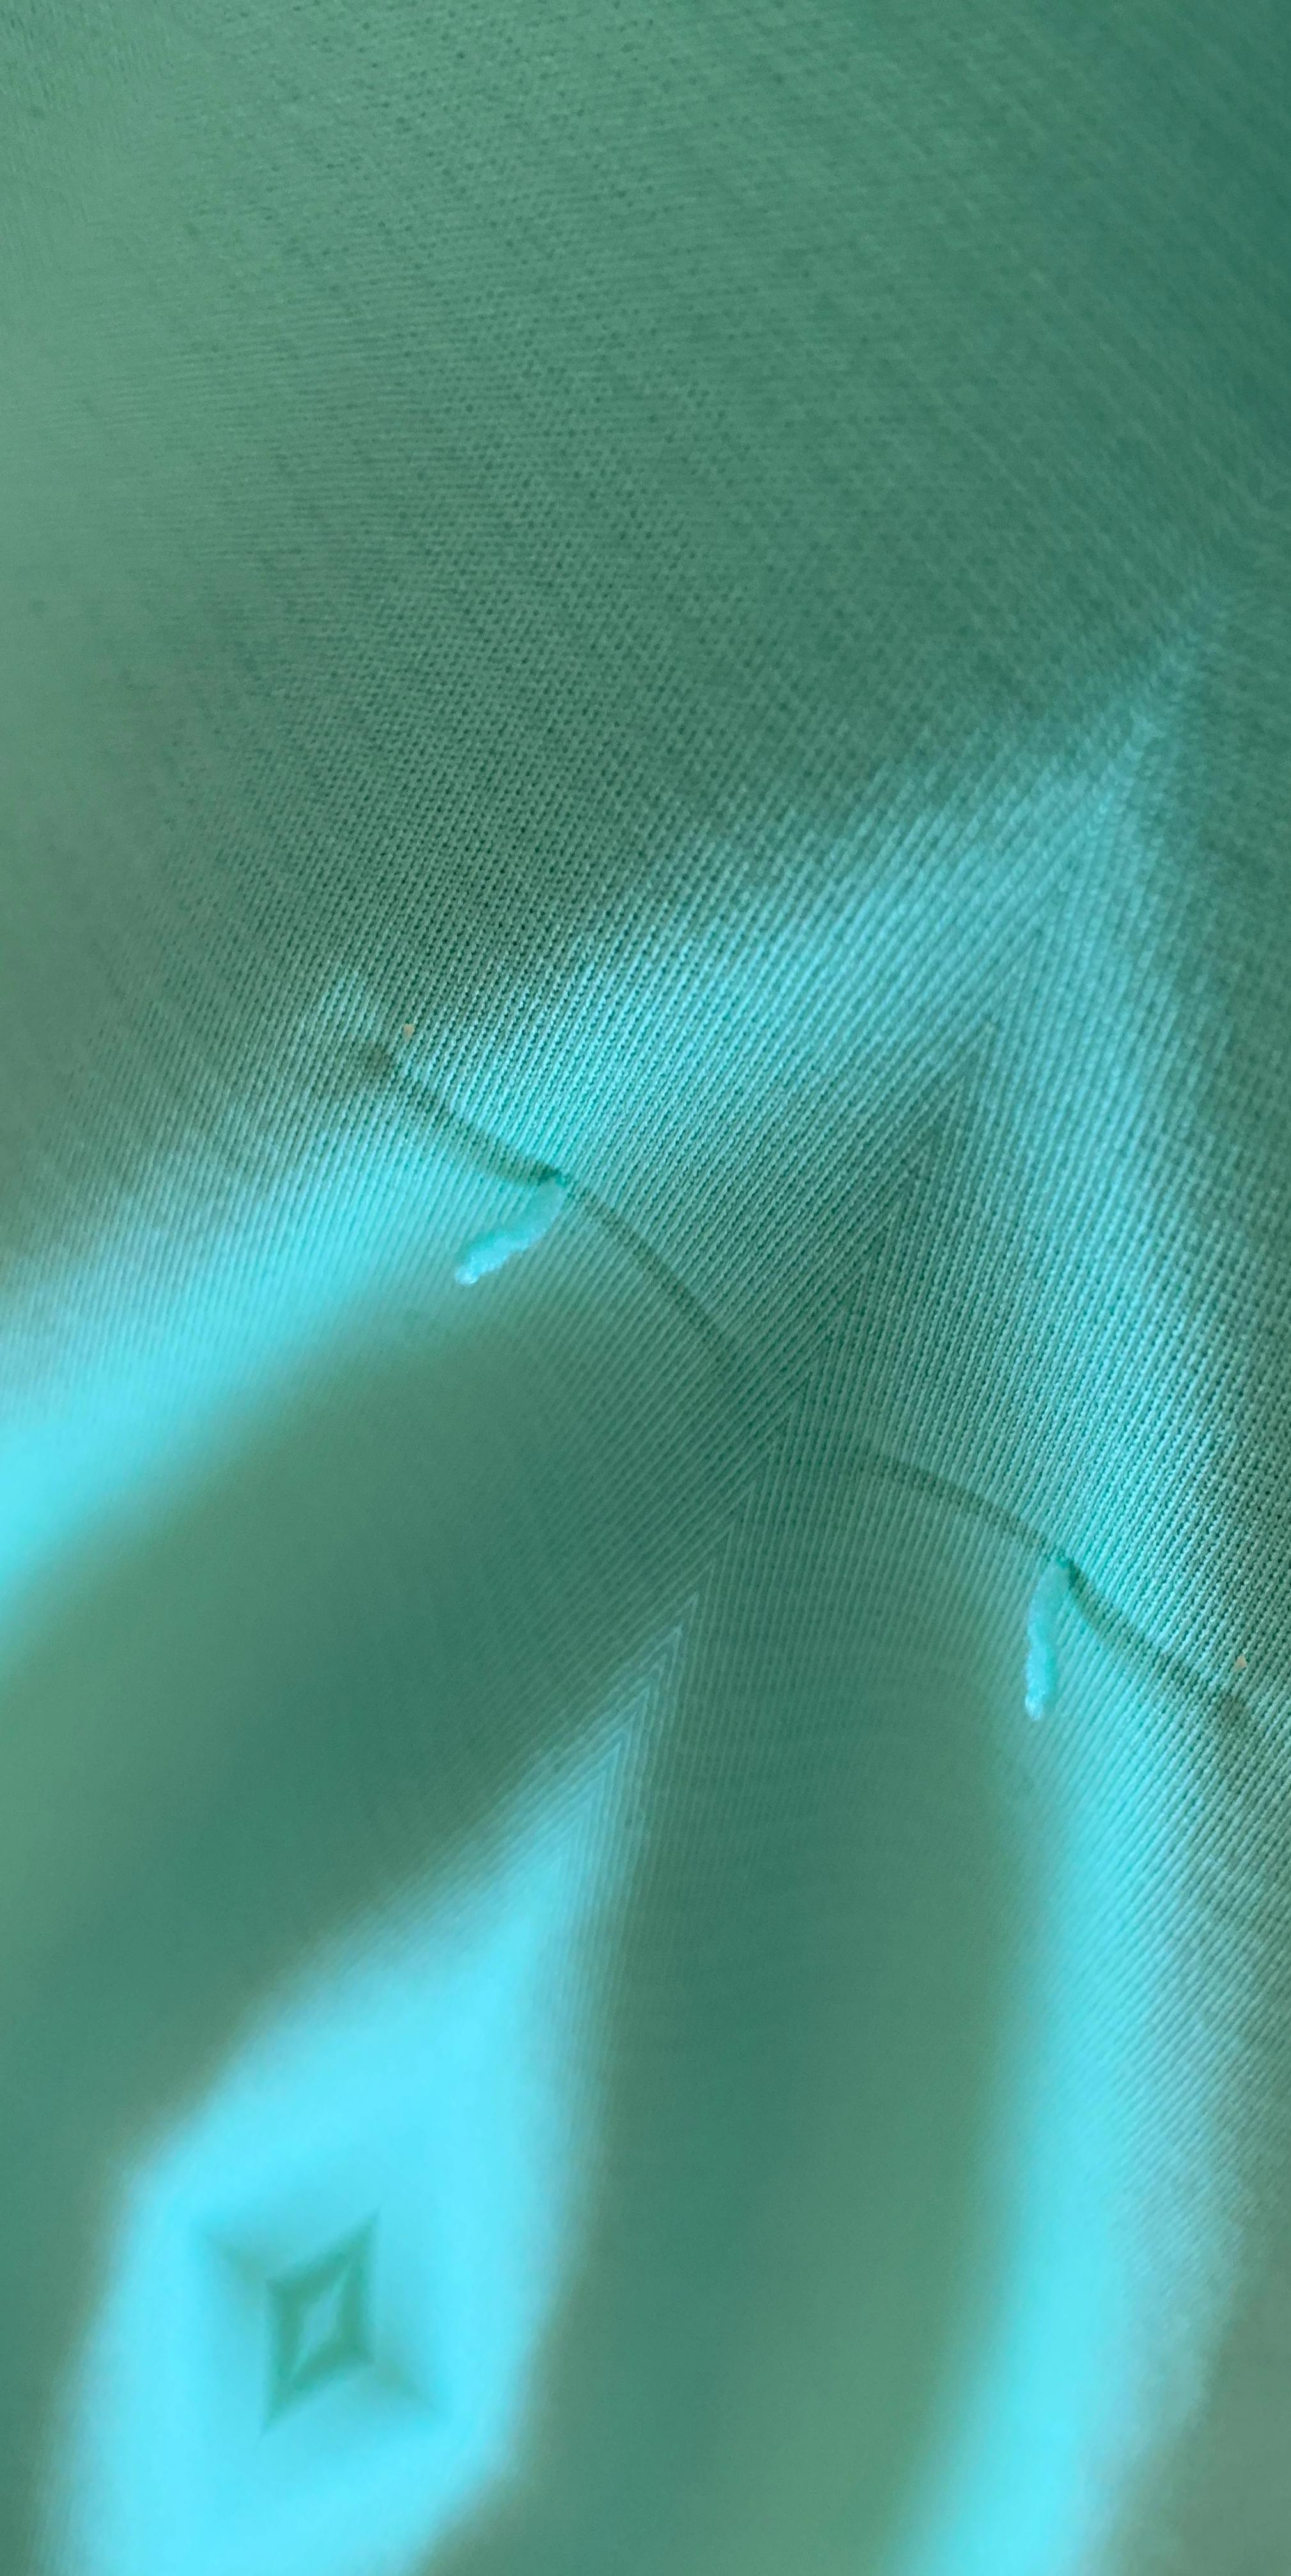snag: (940, 1457, 1186, 1781), (425, 1128, 655, 1369)
